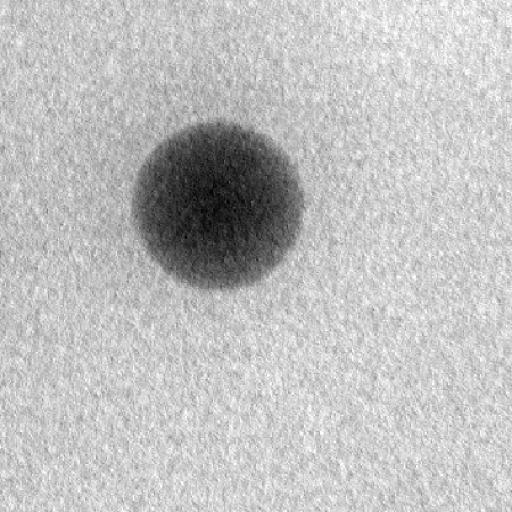Nanoparticles: (128, 118, 308, 290)
